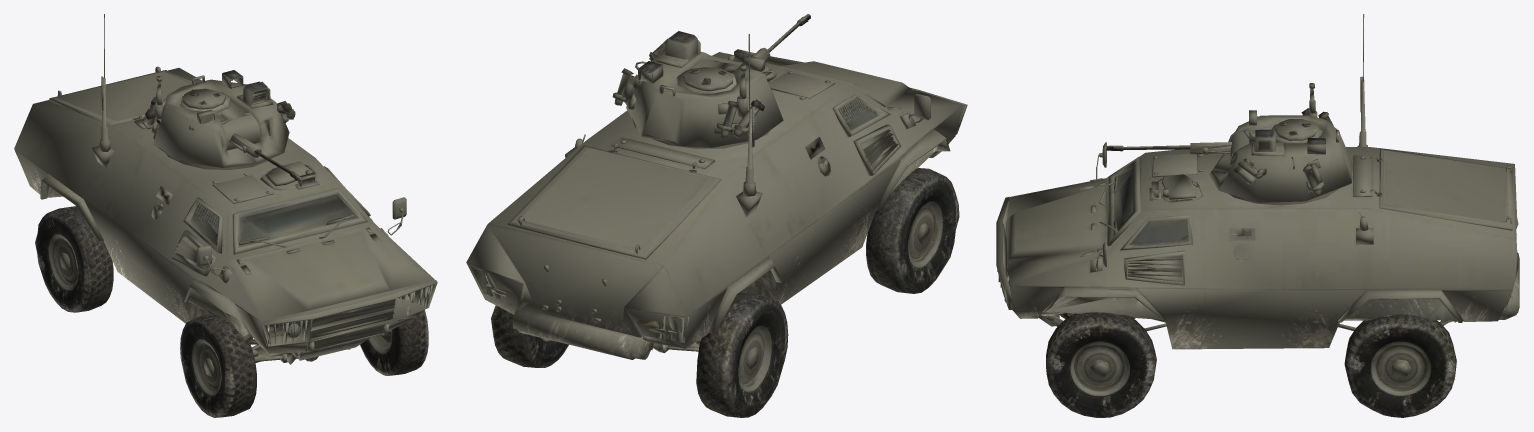
Rendered from scout_car.glb.
The picture shows the model from 3 angles, left to right: view 1: azimuth 30°, elevation 25°; view 2: azimuth 150°, elevation 25°; view 3: azimuth 270°, elevation 25°; orthographic projection. The views are drawn at different scales.
Parts seen in each view (by area): view 1: hull, P_turret, P_barrel; view 2: hull, P_turret; view 3: hull, P_turret, P_barrel.
Part boxes in pixels (x1,y1,x2,y2): hull: (14,14,437,417); P_turret: (142,70,295,167); P_barrel: (230,133,301,181); hull: (466,34,967,417); P_turret: (612,31,783,147); hull: (996,14,1519,417); P_turret: (1192,83,1353,202); P_barrel: (1105,143,1233,154).
Size of the model in its own units: 2.7 by 3.75 by 5.6.
4 materials, 3 textured.
